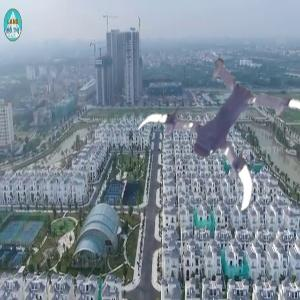drone: (139, 57, 296, 214)
